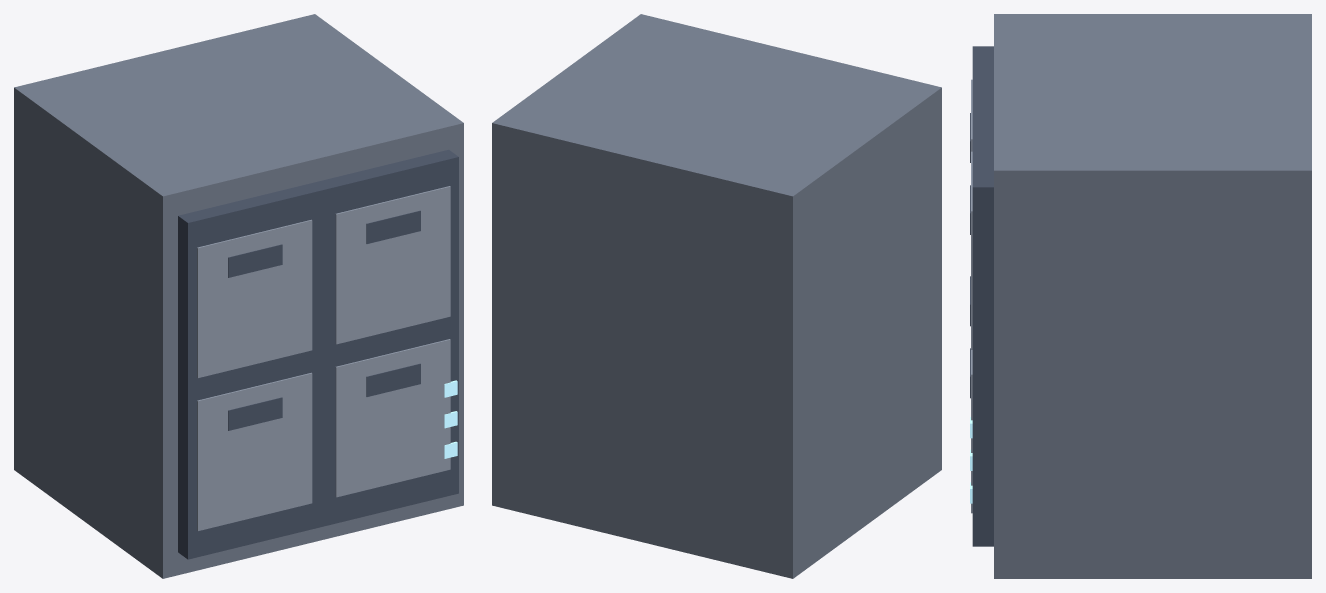
The model's file is nas.glb.
3 views of the same model, side by side, from view 1: azimuth 30°, elevation 25°; view 2: azimuth 150°, elevation 25°; view 3: azimuth 270°, elevation 25° (orthographic). The views are drawn at different scales.
Parts seen in each view (by area): view 1: nas; view 2: nas; view 3: nas.
Part boxes in pixels (x1,y1,x2,y2): nas: (14, 14, 463, 578); nas: (492, 14, 941, 578); nas: (970, 14, 1311, 578).
Size of the model in its own units: 0.28 by 0.34 by 0.258.
